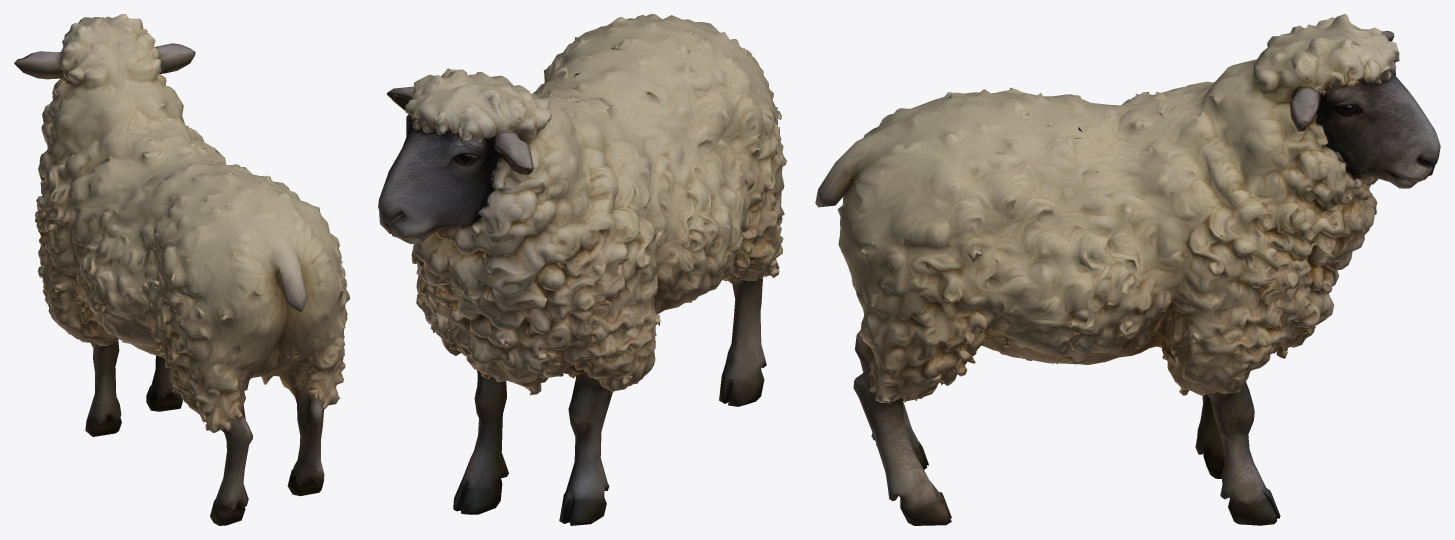
The model's file is pecora.gltf.
3 views of the same model, side by side, from view 1: azimuth 30°, elevation 25°; view 2: azimuth 150°, elevation 25°; view 3: azimuth 270°, elevation 25° (orthographic). The views are drawn at different scales.
Visible parts, largest first — view 1: animal; view 2: animal; view 3: animal.
Boxes of the visible parts, x1,y1,x2,y2 form: animal: (14,14,349,525); animal: (378,14,786,525); animal: (815,14,1440,525).
Bounding box in the file's own units: 0.4566 × 0.8003 × 0.9536.
1 material, 1 textured.
